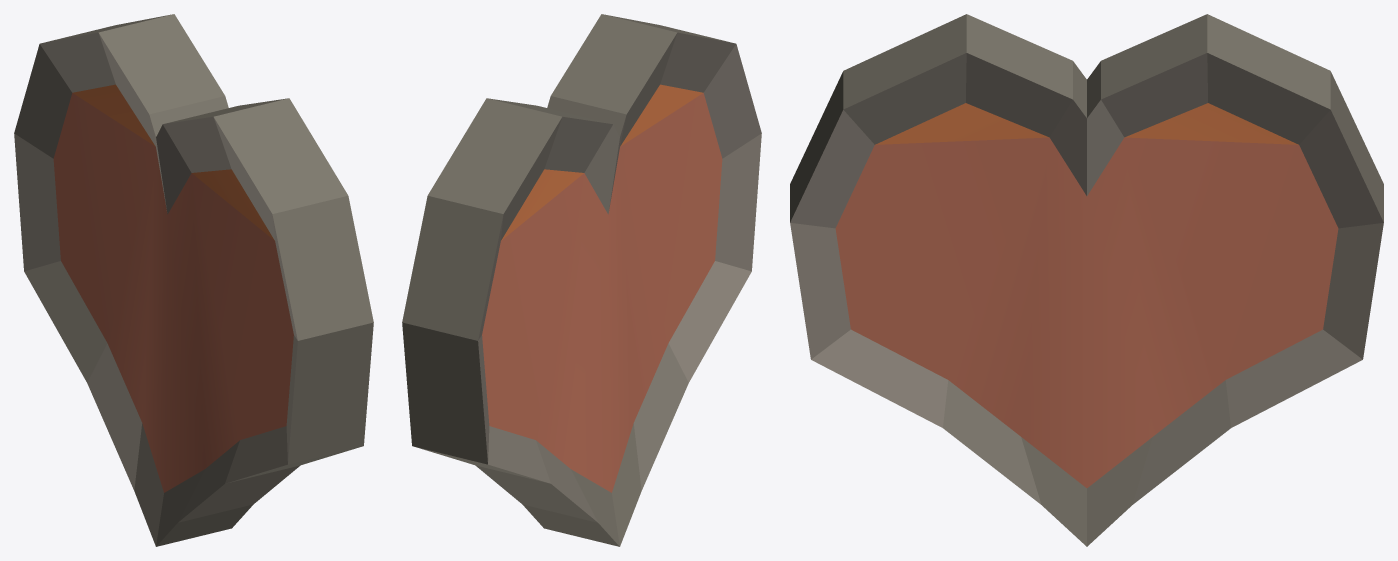
File: heart.glb
3 renders of one model, left to right at view 1: azimuth 30°, elevation 25°; view 2: azimuth 150°, elevation 25°; view 3: azimuth 270°, elevation 25°, orthographic. The views are drawn at different scales.
Parts seen in each view (by area): view 1: Heart.001; view 2: Heart.001; view 3: Heart.001.
Boxes of the visible parts, <box> form: Heart.001: <box>14,14,373,546</box>; Heart.001: <box>402,14,761,546</box>; Heart.001: <box>790,14,1383,546</box>.
Size of the model in its own units: 0.0803 by 0.477 by 0.5194.
